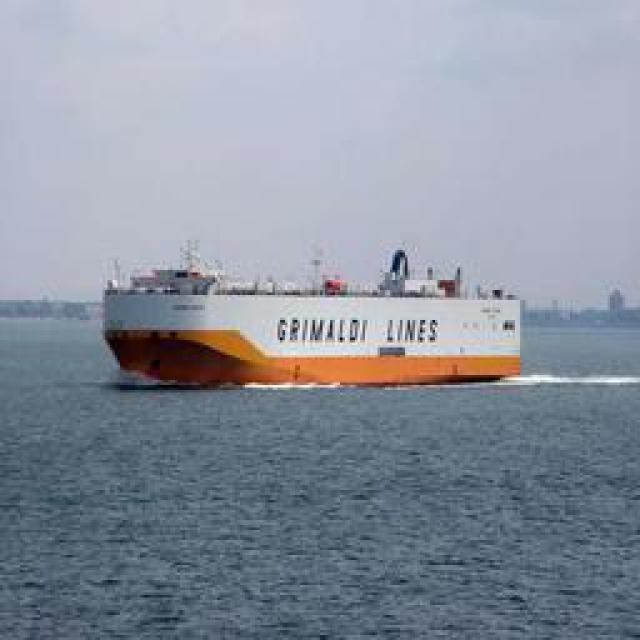Ship: (107, 235, 520, 390)
